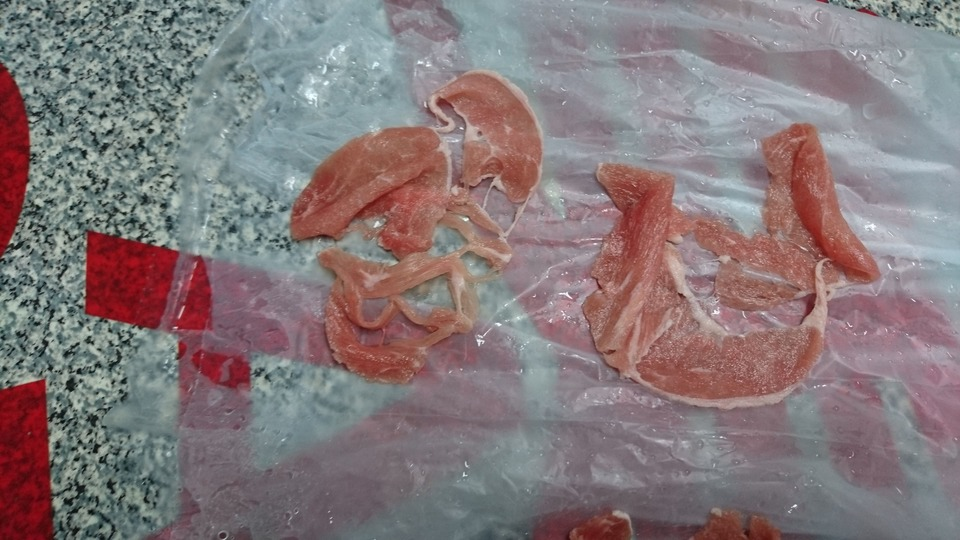restructured meat: (571, 118, 883, 409), (291, 68, 544, 382)
